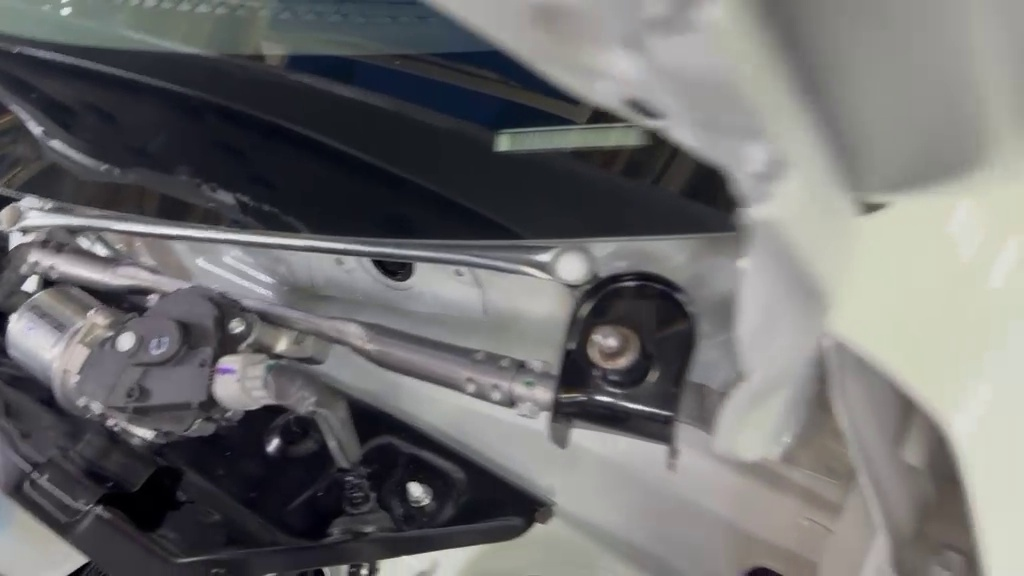barcode: (531, 261, 747, 480)
hinge: (476, 109, 678, 167)
